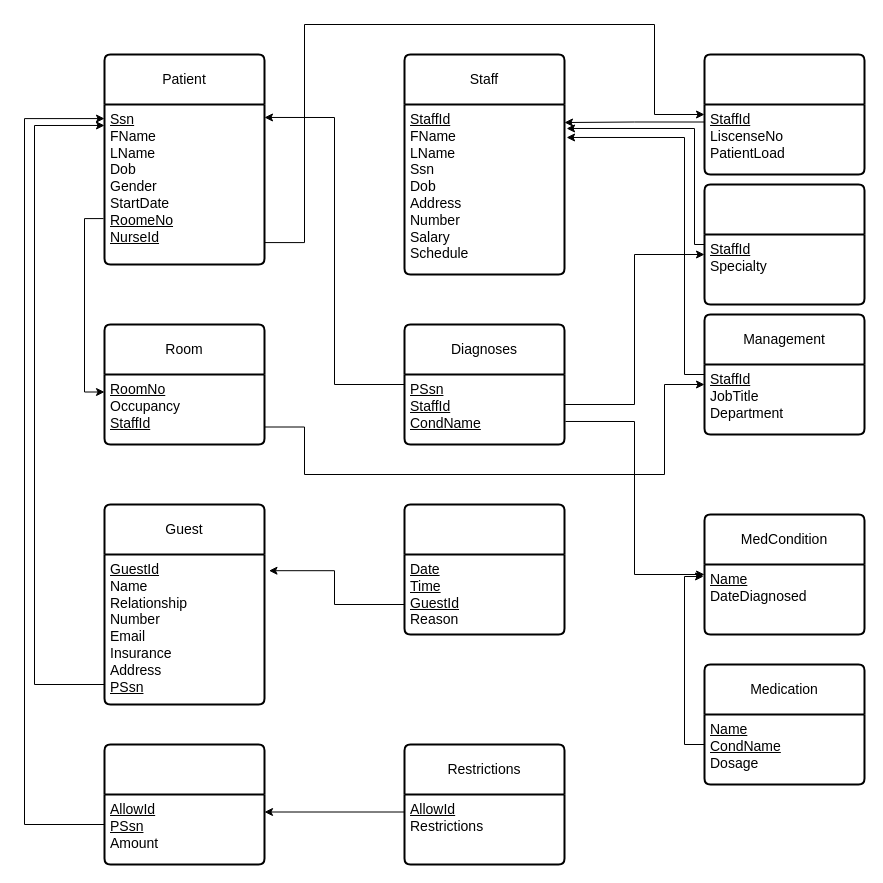
Some shapes in this 883 by 883 pixel diagram are drawn without their labels. The shapes that lost their labels are listed below. From the top down, each one's box as (x1, y1, x2, y2) in pixels, then its label:
(703, 53, 865, 175): Nurse
(703, 183, 865, 305): Doctor
(403, 503, 565, 635): Visits
(103, 743, 265, 865): Allowance
